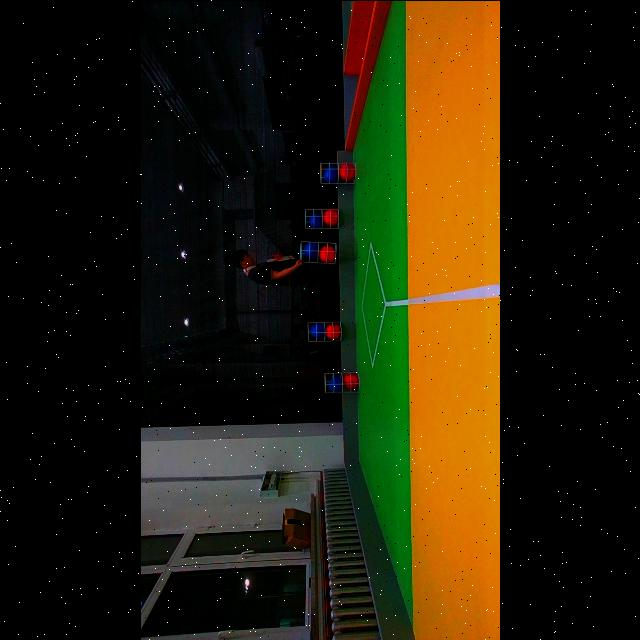B: (310, 322, 325, 339), (303, 242, 317, 259), (323, 165, 337, 181), (328, 377, 342, 391), (308, 214, 321, 227)
R: (318, 243, 335, 262), (339, 162, 355, 181), (322, 208, 337, 226), (325, 322, 340, 339), (342, 373, 358, 388)
S: (320, 158, 354, 186), (324, 368, 358, 394), (300, 240, 336, 264), (304, 207, 338, 231), (307, 320, 341, 342)
